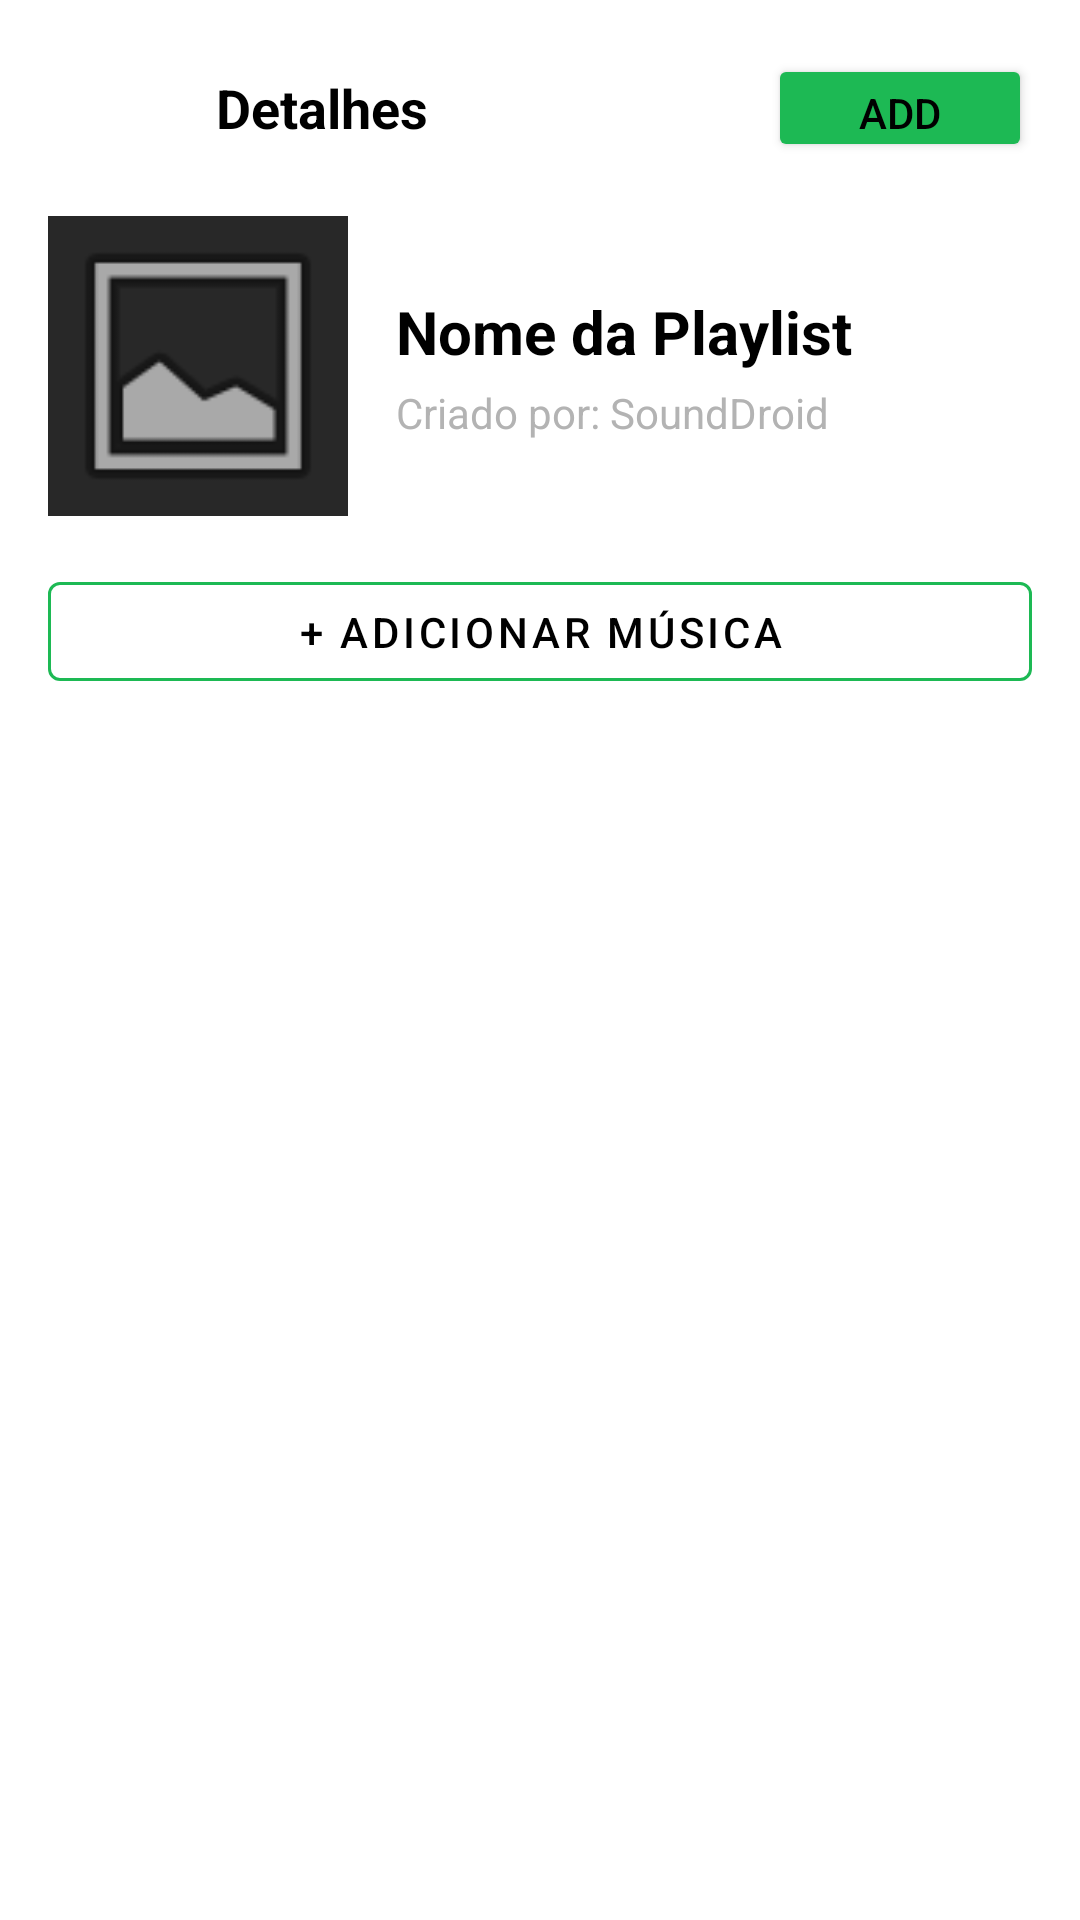

Locate icon controls on the screen. Image size 1080px x 1920px, boxes as (x1, y1, x2, y2).
gallery: (48, 216, 348, 516)
